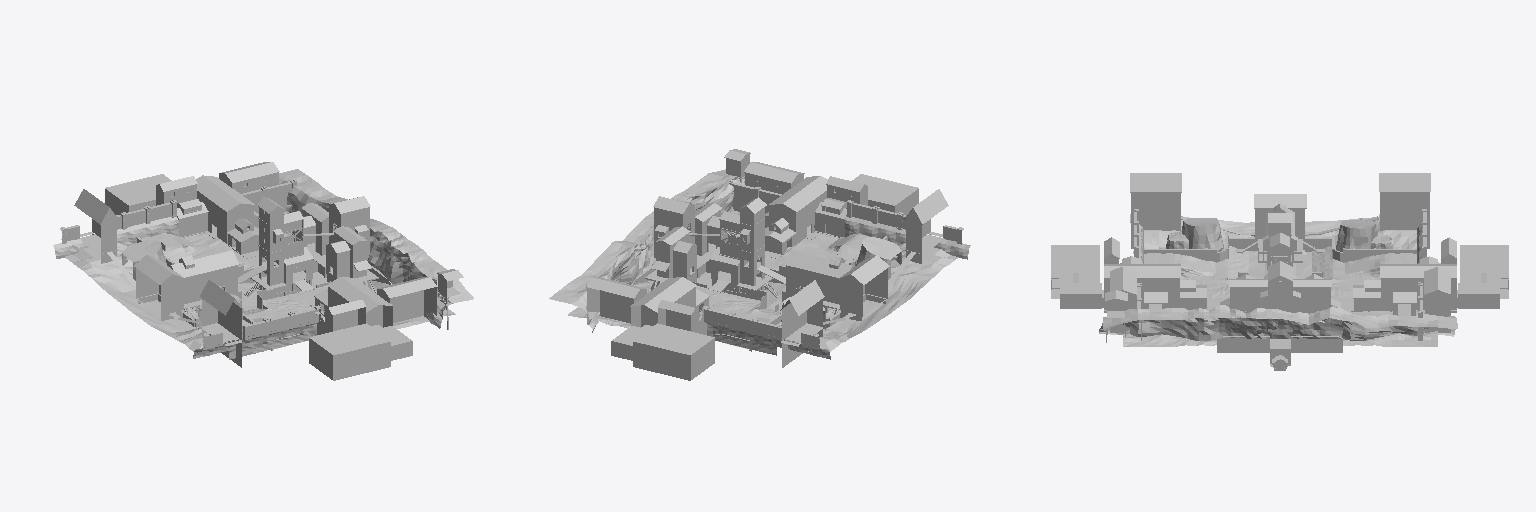
File: ravine.obj
3 renders of one model, left to right at view 1: azimuth 30°, elevation 25°; view 2: azimuth 150°, elevation 25°; view 3: azimuth 270°, elevation 25°, orthographic.
Size of the model in its own units: 185 by 68.2 by 279.